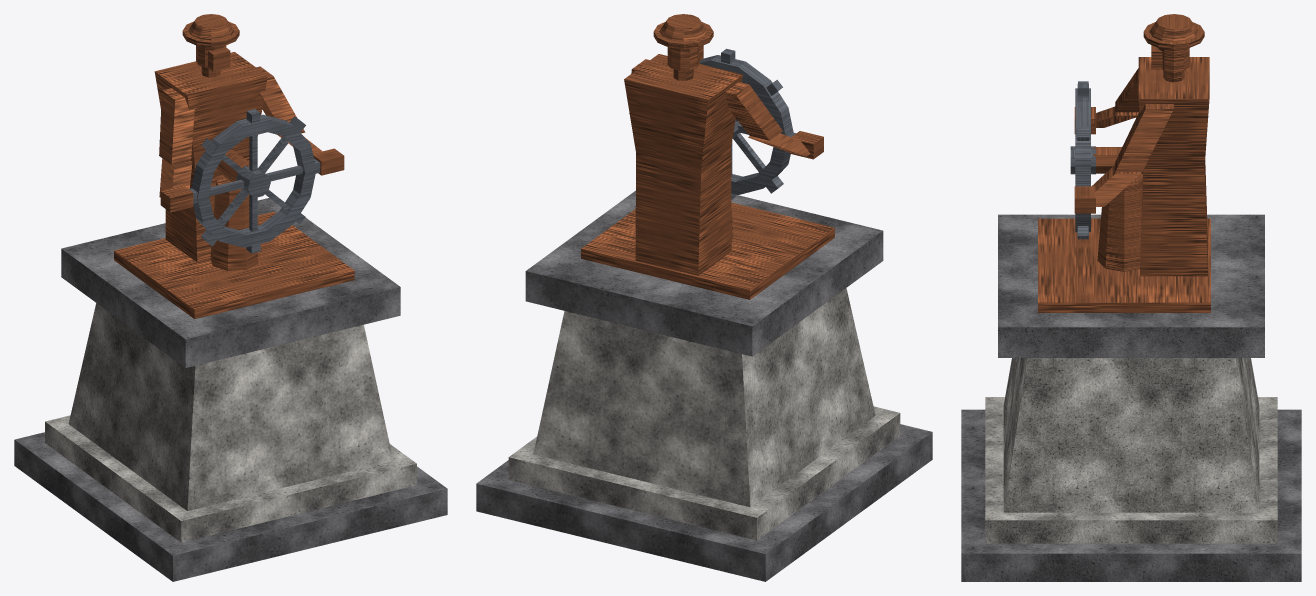
Rendered from mariner_monument.fbx.
The picture shows the model from 3 angles, left to right: view 1: azimuth 30°, elevation 25°; view 2: azimuth 150°, elevation 25°; view 3: azimuth 270°, elevation 25°; orthographic projection. The views are drawn at different scales.
Visible parts, largest first — view 1: mariner_monument; view 2: mariner_monument; view 3: mariner_monument.
Part boxes in pixels (bbox=[...]): mariner_monument: bbox=[14, 14, 447, 581]; mariner_monument: bbox=[476, 14, 932, 581]; mariner_monument: bbox=[961, 14, 1301, 581].
Bounding box in the file's own units: 240 × 380 × 240.
